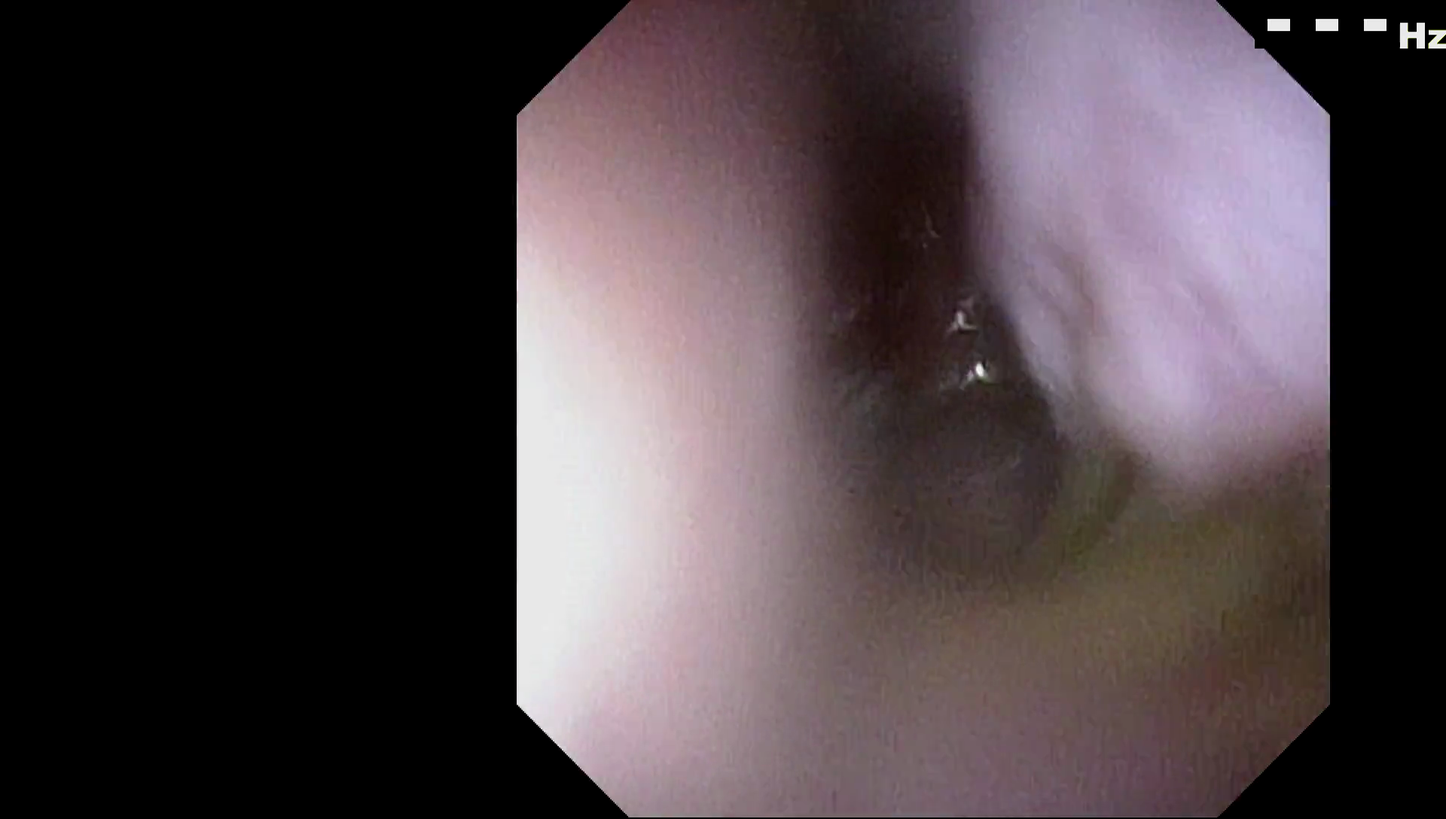close_wall: (526, 124, 840, 703)
next: (755, 47, 1005, 401)
